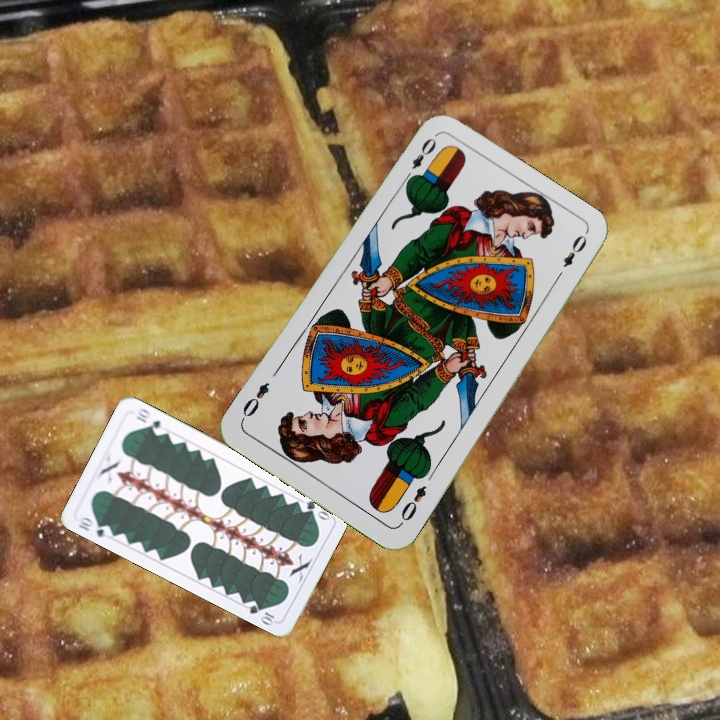EO: (399, 133, 440, 185), (395, 481, 429, 528)
G10: (74, 513, 114, 541), (302, 496, 335, 522)
